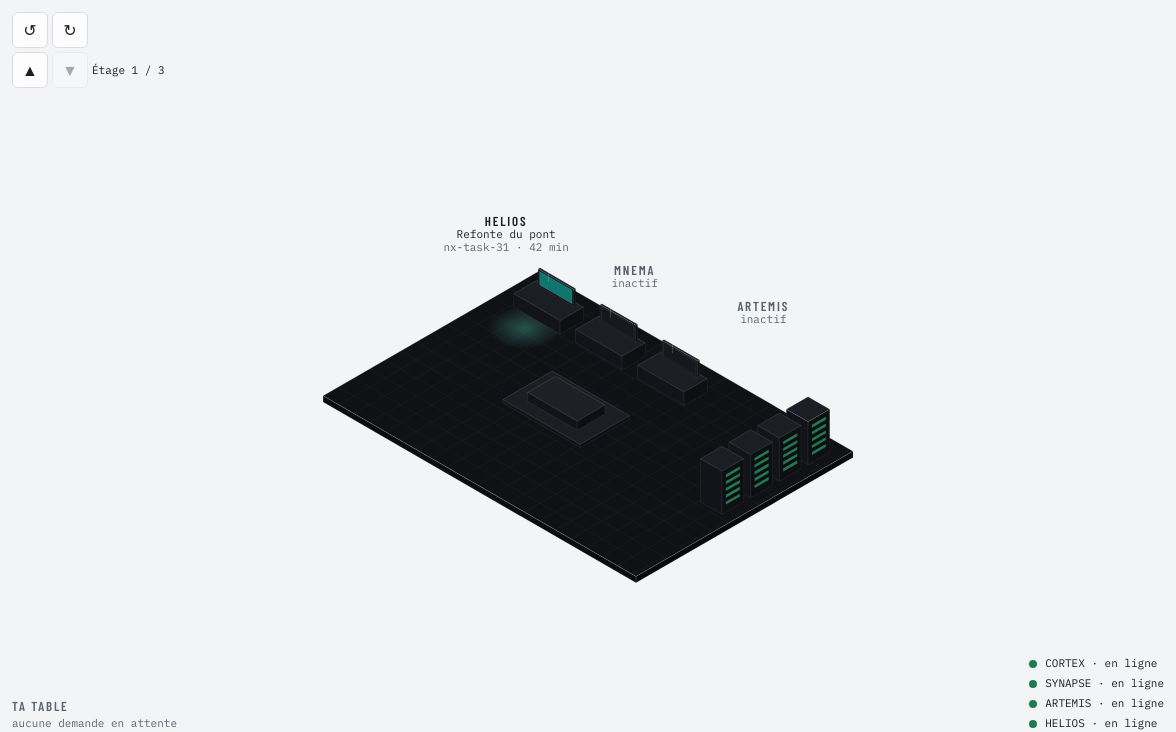
la dernière salle peut être incomplète : 12 nœuds donnent 4, 10 nœuds donnent 2 baies à l'étage 3
Click the button named "Monter d'un étage" at (30, 70), box [12,52,48,88]
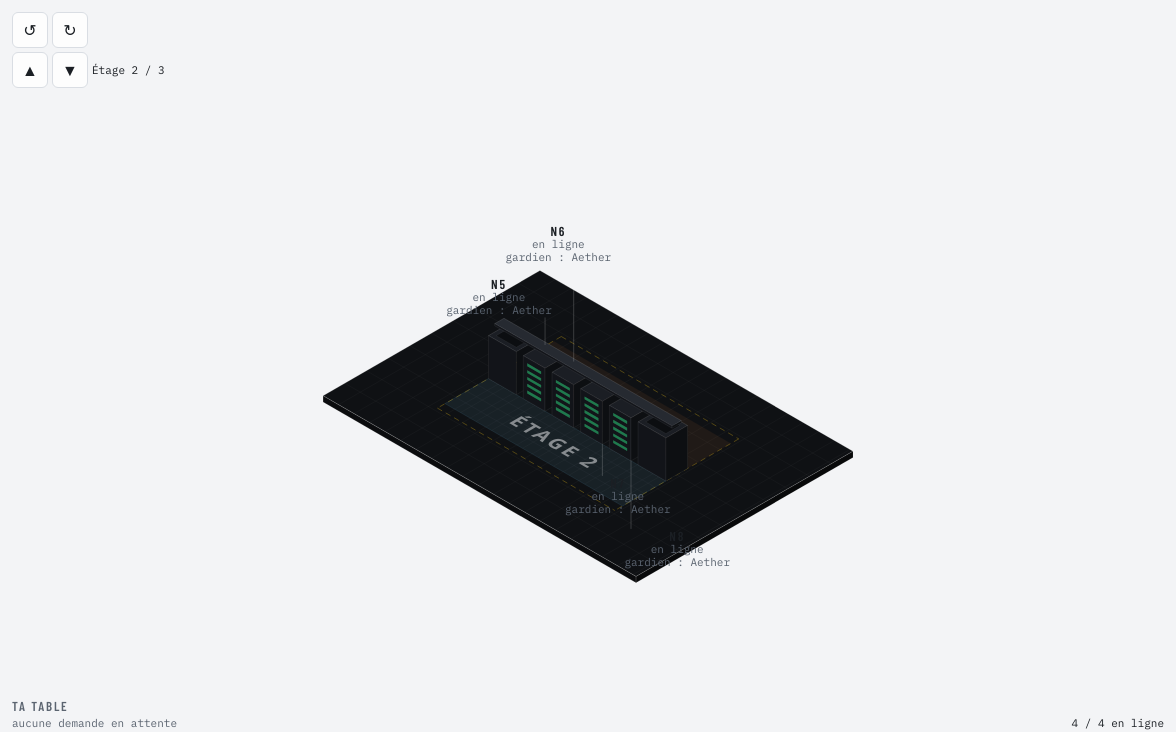
Click the button named "Monter d'un étage" at (30, 70), box [12,52,48,88]
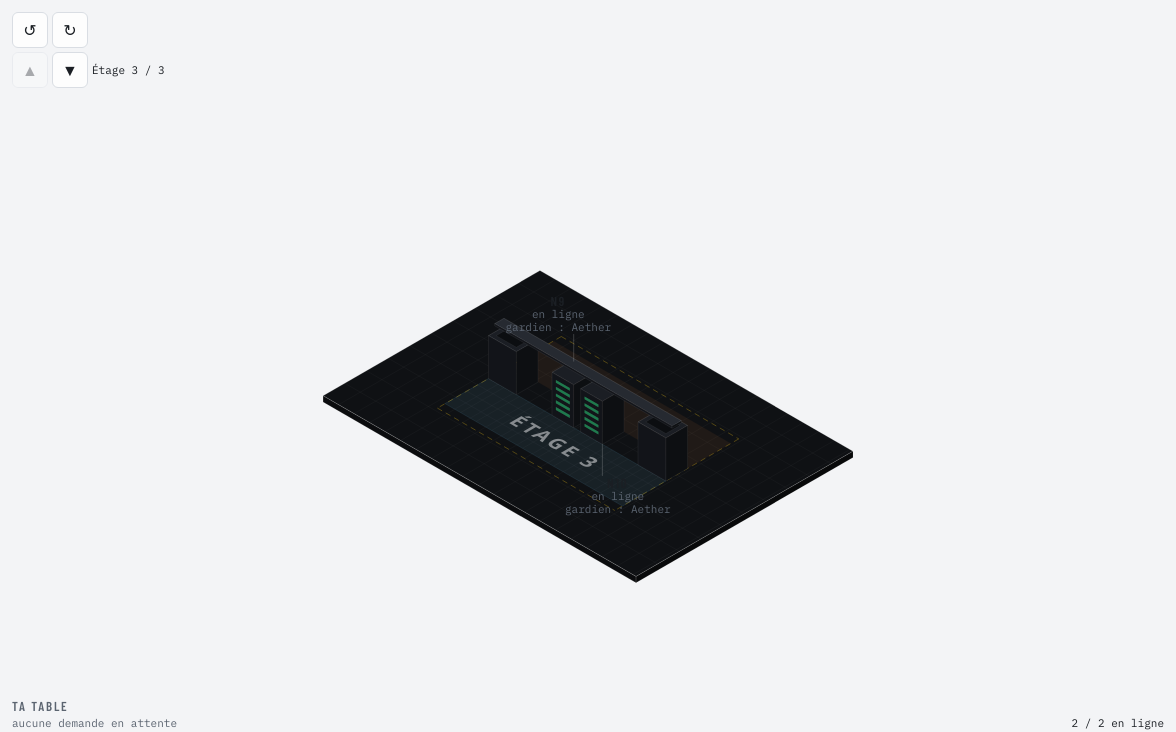
Now the element showing "Étage 3 / 3" is shown, box [92,62,165,76]
Now the picture named "Étage 3 de Nexus : salle des serveurs, 2 baies" is shown
